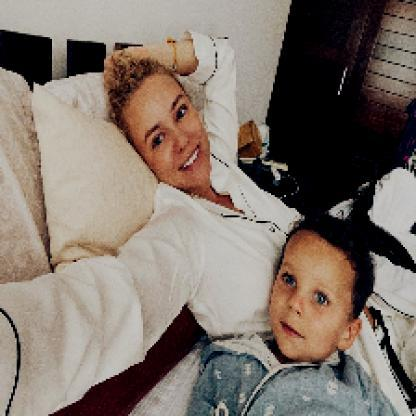child: (185, 213, 403, 415)
